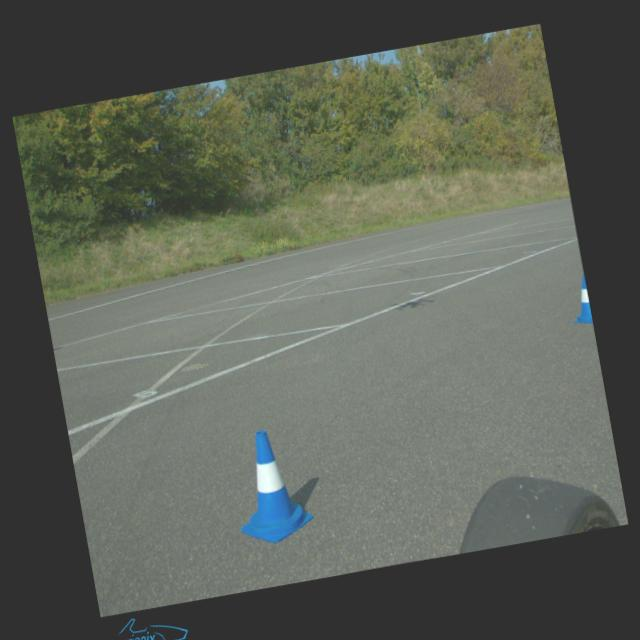blue_cone: (225, 424, 316, 548), (566, 274, 592, 325)
